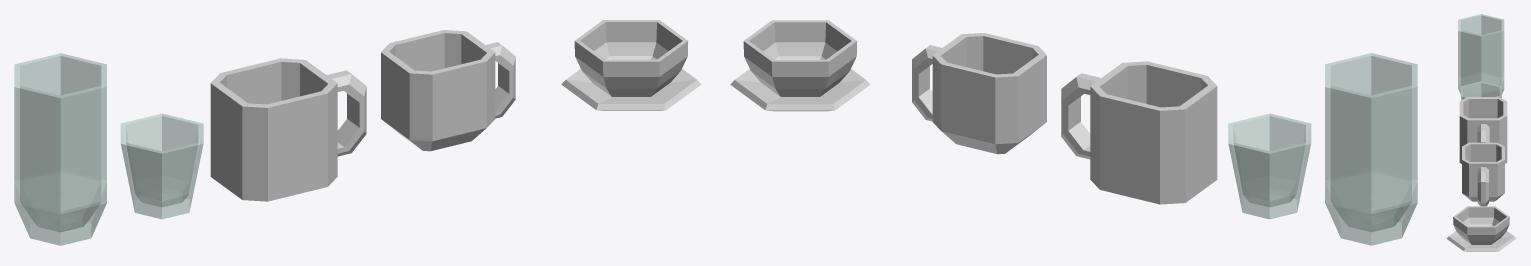
Rendered from glass.fbx.
3 views of the same model, side by side, from view 1: azimuth 30°, elevation 25°; view 2: azimuth 150°, elevation 25°; view 3: azimuth 270°, elevation 25° (orthographic). The views are drawn at different scales.
Parts seen in each view (by area): view 1: Cube.003, Cylinder.027, Cube.004, Cylinder.026, Cylinder.029, Cylinder.028; view 2: Cube.003, Cylinder.027, Cube.004, Cylinder.026, Cylinder.029, Cylinder.028; view 3: Cylinder.027, Cube.004, Cube.003, Cylinder.029, Cylinder.028, Cylinder.026.
Part boxes in pixels (box(x1,y1,x2,y2)): Cube.003: box(210, 58, 366, 201); Cylinder.027: box(14, 53, 106, 245); Cube.004: box(381, 30, 515, 151); Cylinder.026: box(120, 113, 203, 219); Cylinder.029: box(574, 20, 688, 96); Cylinder.028: box(561, 68, 701, 110); Cube.003: box(1061, 61, 1217, 204); Cylinder.027: box(1325, 53, 1417, 245); Cube.004: box(912, 33, 1046, 154); Cylinder.026: box(1228, 113, 1311, 219); Cylinder.029: box(743, 20, 857, 96); Cylinder.028: box(730, 69, 870, 111); Cylinder.027: box(1458, 14, 1504, 97); Cube.004: box(1462, 142, 1504, 206); Cube.003: box(1459, 97, 1507, 163); Cylinder.029: box(1453, 206, 1509, 244); Cylinder.028: box(1446, 231, 1516, 251); Cylinder.026: box(1460, 81, 1501, 99).
Size of the model in its own units: 105 by 23.25 by 19.05.
